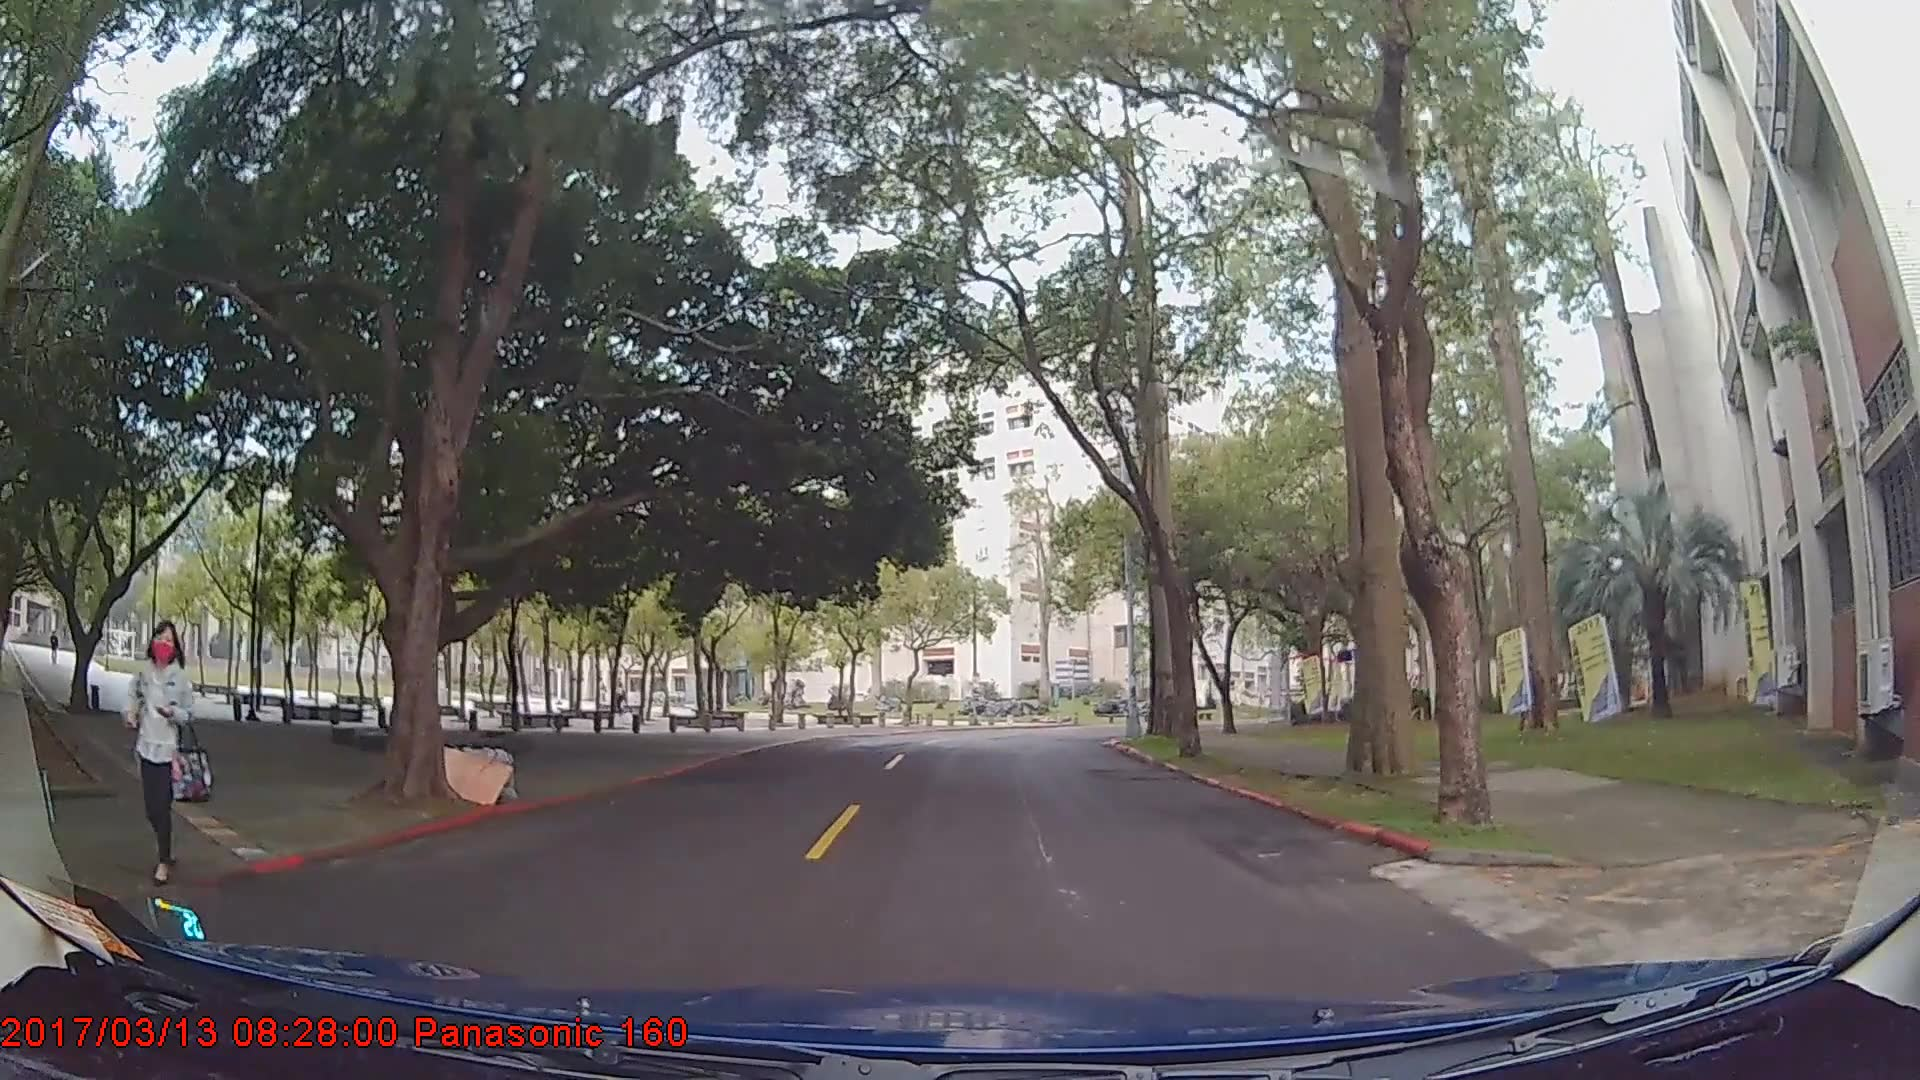pedestrian: (120, 615, 214, 885)
